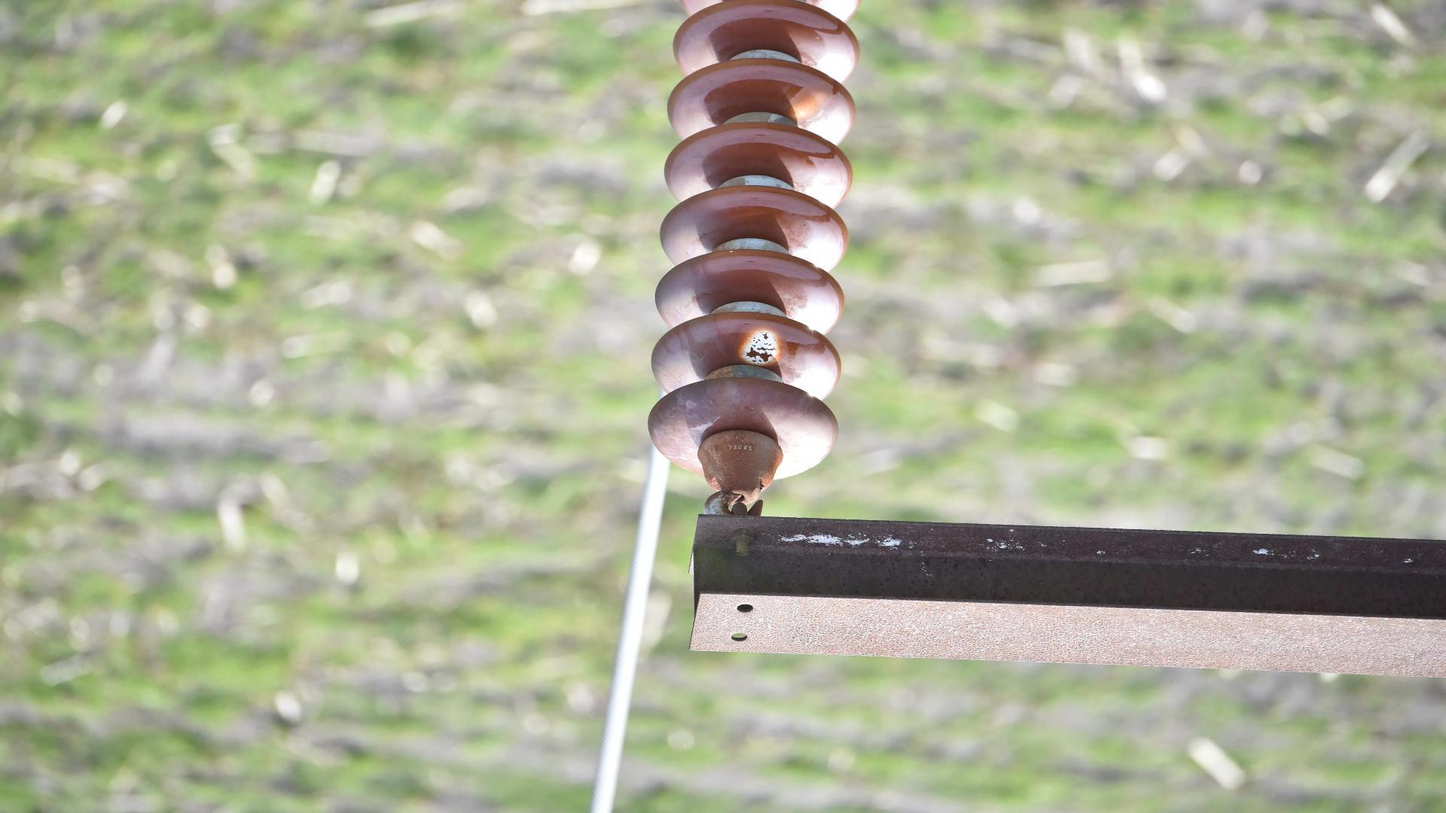insulator: (642, 1, 865, 491)
insulator_flashover: (781, 76, 834, 124), (737, 326, 784, 367)
